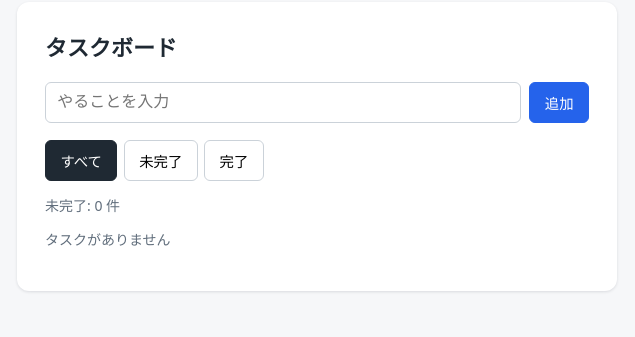
Test: App › 「完了」で絞り込むと未完了タスクは表示されない
Type "見積を作る" into the field named "タスク名" at (283, 102), box [45, 82, 521, 123]
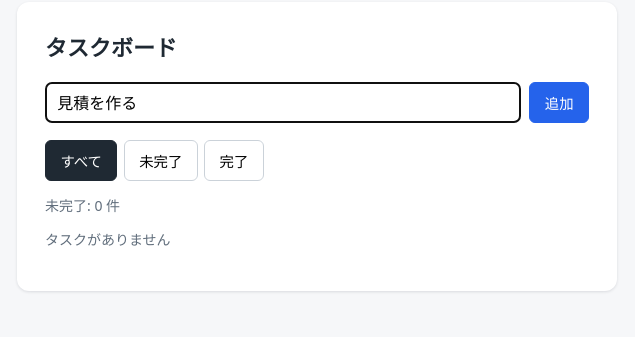
Click the button "追加" at (559, 102), box [529, 82, 589, 123]
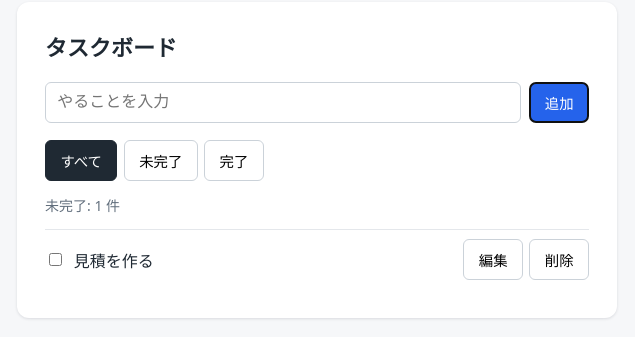
Click the button "完了" at (234, 160), box [204, 140, 264, 181]
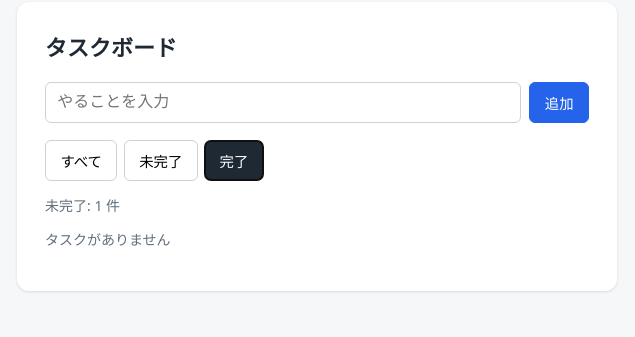
Expected: the text "見積を作る" is gone
Expected: the text "タスクがありません" is shown, [45, 230, 171, 249]
